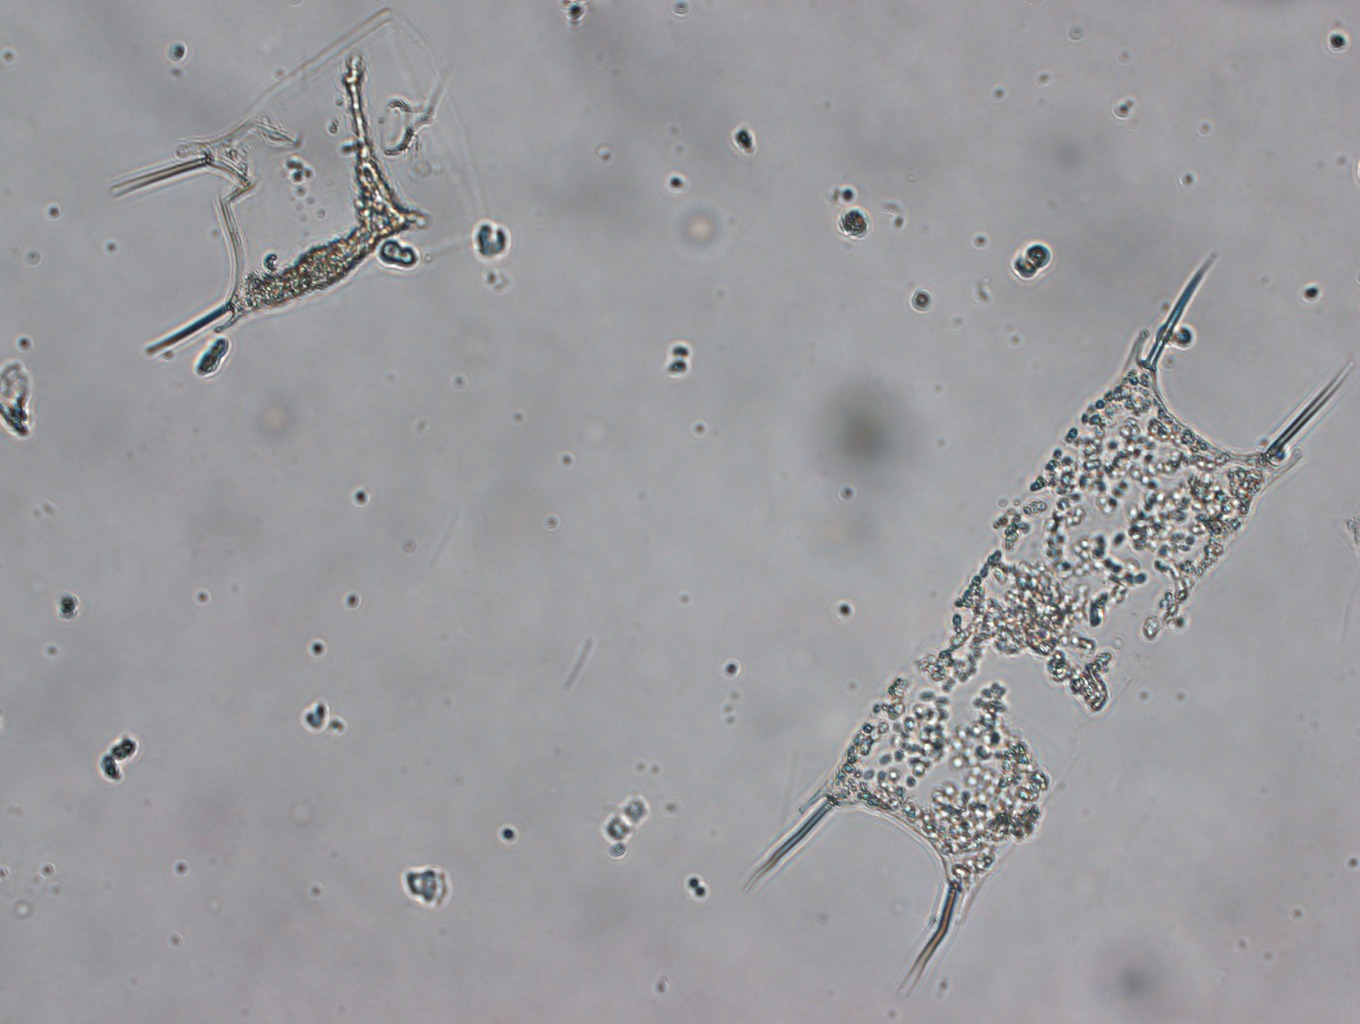biddulphia: (730, 250, 1358, 1024), (108, 1, 463, 357)
